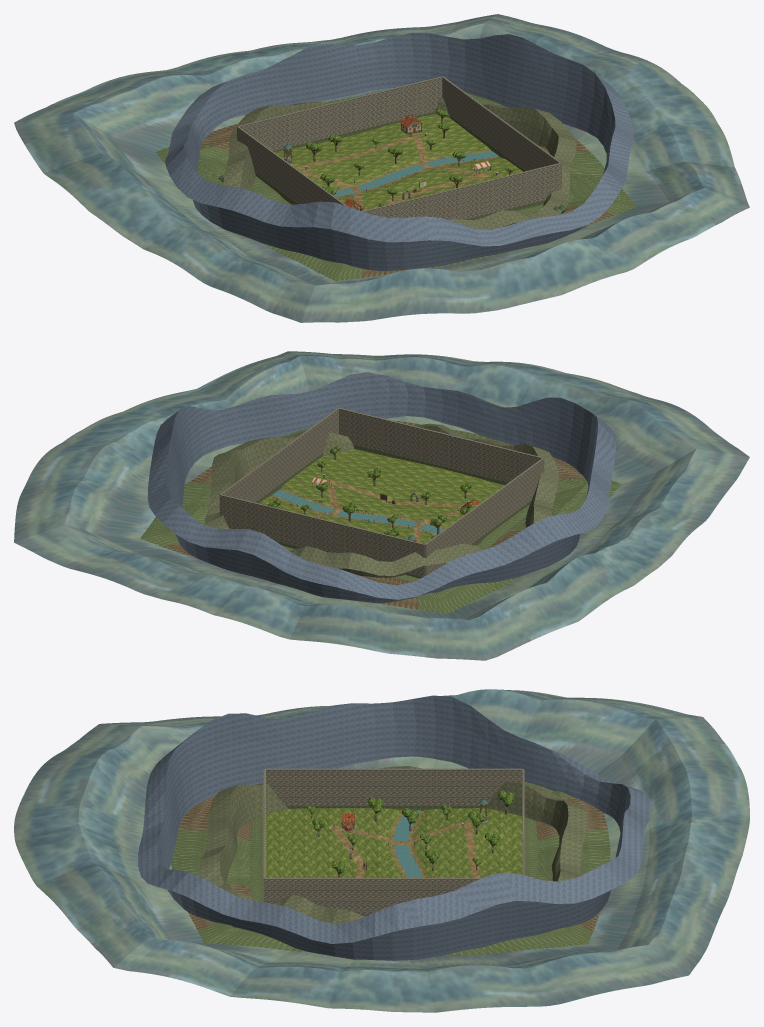
The model's file is DriftFen.fbx.
3 renders of one model, top to bottom at view 1: azimuth 30°, elevation 25°; view 2: azimuth 150°, elevation 25°; view 3: azimuth 270°, elevation 25°, orthographic. The views are drawn at different scales.
Visible parts, largest first — view 1: Surroundings, Horizon, C_Solids, Terrain, Set, Rim; view 2: Surroundings, Horizon, C_Solids, Terrain, Set, Rim; view 3: Surroundings, Horizon, Terrain, C_Solids, Set, Rim.
Part boxes in pixels (box(x1,y1,x2,y2)): Surroundings: box(14, 14, 749, 322); Horizon: box(165, 33, 633, 270); C_Solids: box(237, 76, 561, 219); Terrain: box(275, 114, 522, 210); Set: box(283, 109, 513, 210); Rim: box(255, 111, 545, 219); Surroundings: box(14, 351, 749, 660); Horizon: box(147, 372, 616, 603); C_Solids: box(219, 407, 544, 576); Terrain: box(259, 449, 504, 543); Set: box(268, 446, 479, 541); Rim: box(255, 444, 531, 578); Surroundings: box(14, 689, 749, 1012); Horizon: box(138, 695, 650, 960); Terrain: box(266, 808, 522, 877); C_Solids: box(263, 768, 524, 914); Set: box(306, 790, 514, 877); Rim: box(263, 805, 487, 916).
Bounding box in the file's own units: 32130 × 4224 × 32129.
